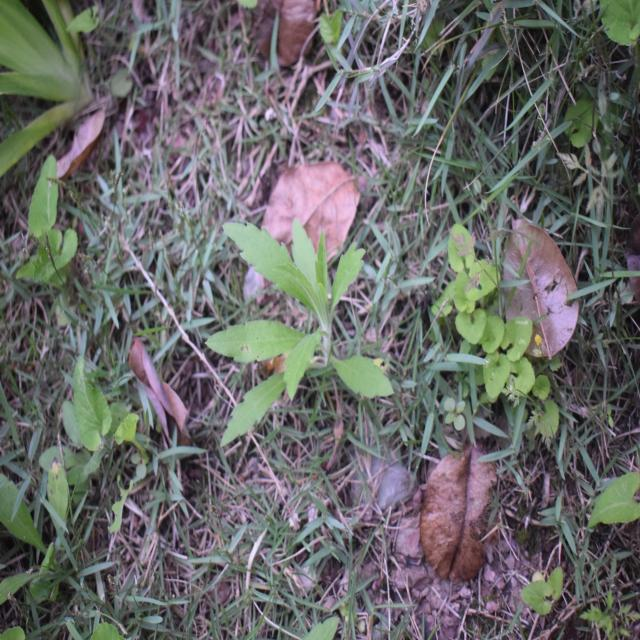horseweed: (201, 185, 396, 422)
